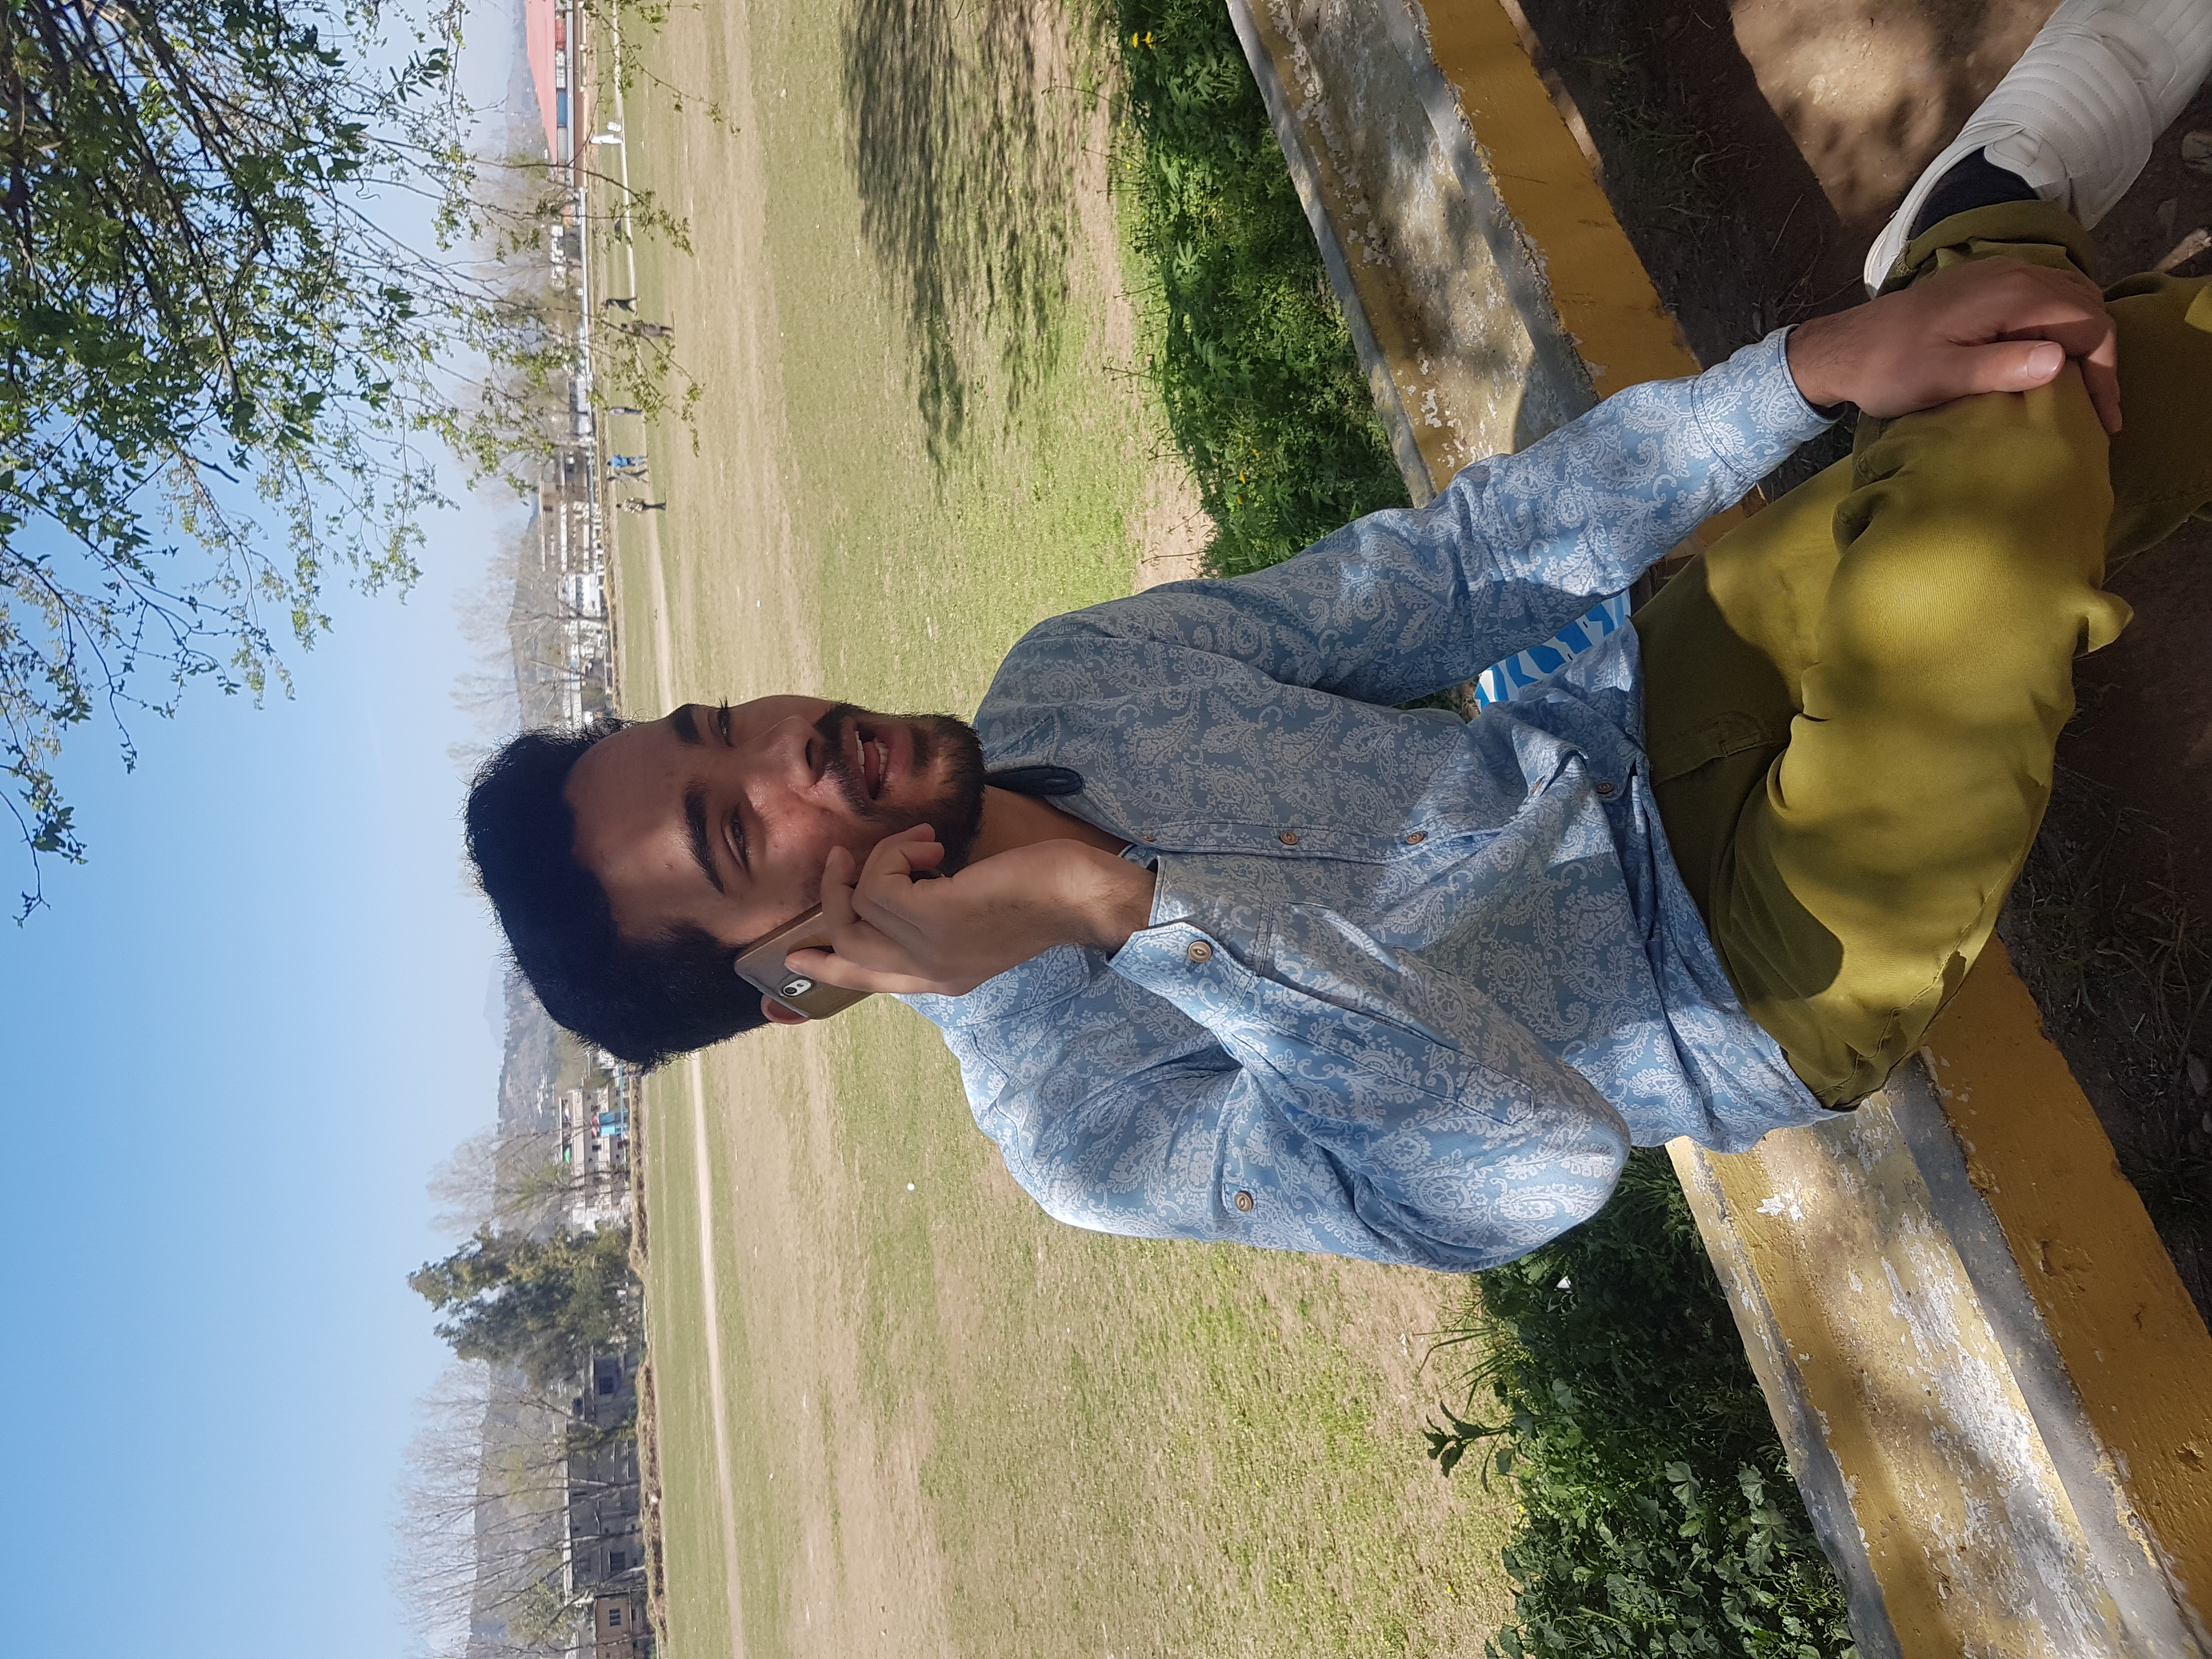face: (487, 701, 994, 932)
mobile: (721, 923, 890, 1018)
